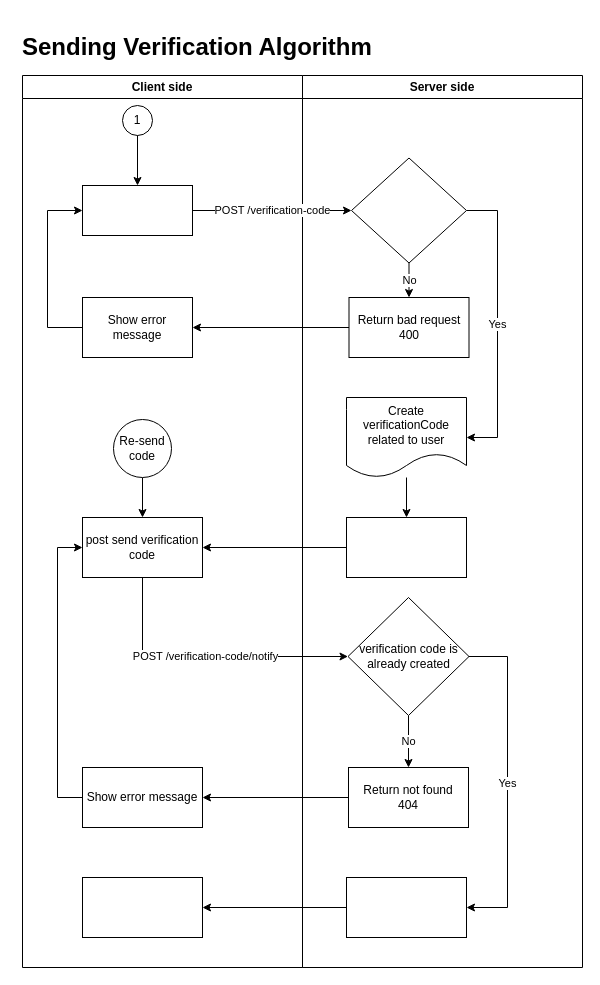
Some shapes in this 600 by 985 pixel diagram are drawn without their labels. The centre of each missing label's shape, as x and y in pixels:
is phoneNumber valid: (x=408, y=210)
Notify code and return ok 200: (x=406, y=907)
post create verificationCode: (x=137, y=210)
Return created 201: (x=406, y=547)
Show notify sended: (x=142, y=907)
